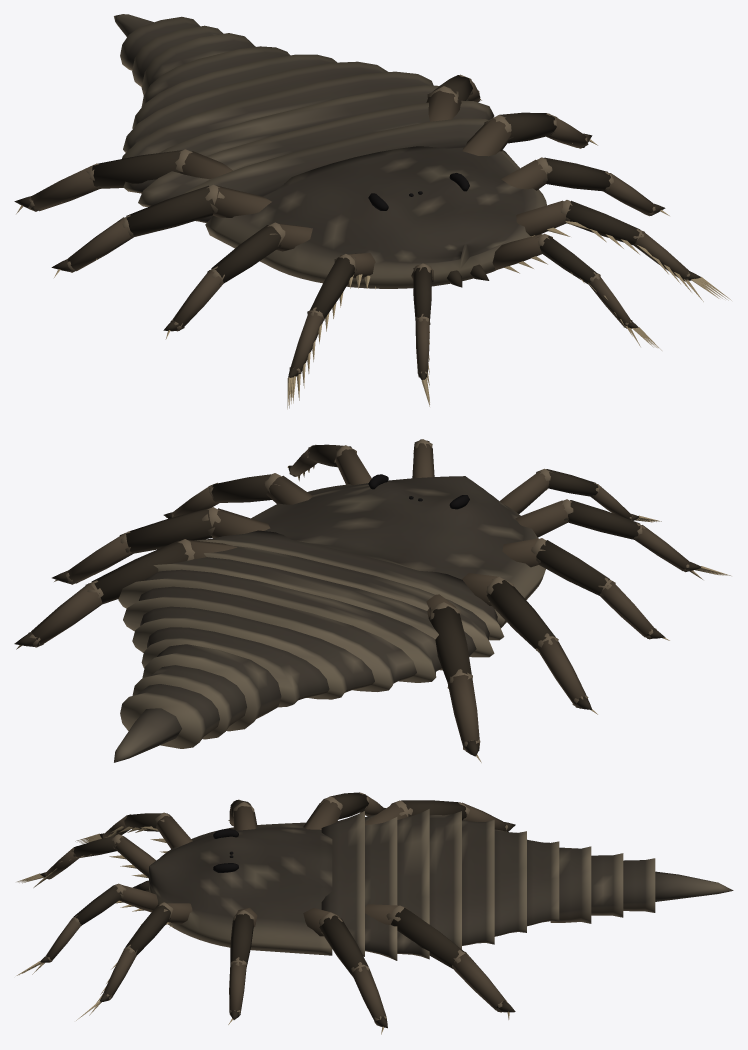
The model's file is Hibbertopterus.fbx.
3 views of the same model, one above another, from view 1: azimuth 30°, elevation 25°; view 2: azimuth 150°, elevation 25°; view 3: azimuth 270°, elevation 25° (orthographic). The views are drawn at different scales.
Visible parts, largest first — view 1: Hibbertopterus; view 2: Hibbertopterus; view 3: Hibbertopterus.
Boxes of the visible parts, box(x1,y1,x2,y2) form: Hibbertopterus: box(14, 14, 731, 409); Hibbertopterus: box(14, 439, 730, 762); Hibbertopterus: box(16, 792, 733, 1034).
Bounding box in the file's own units: 1.2 × 0.2215 × 1.65.
